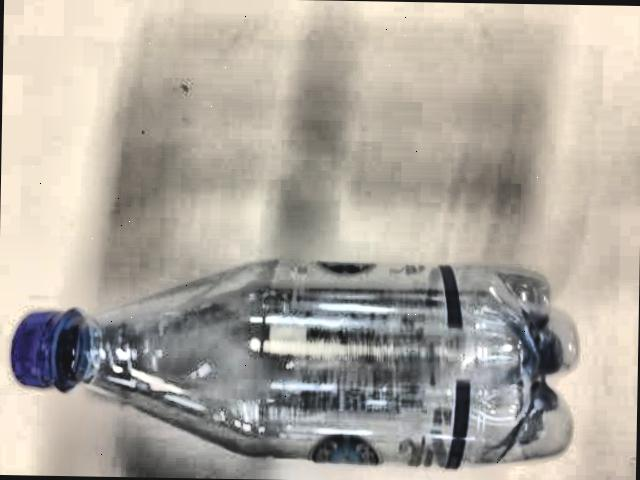Bottles: (0, 242, 611, 480)
